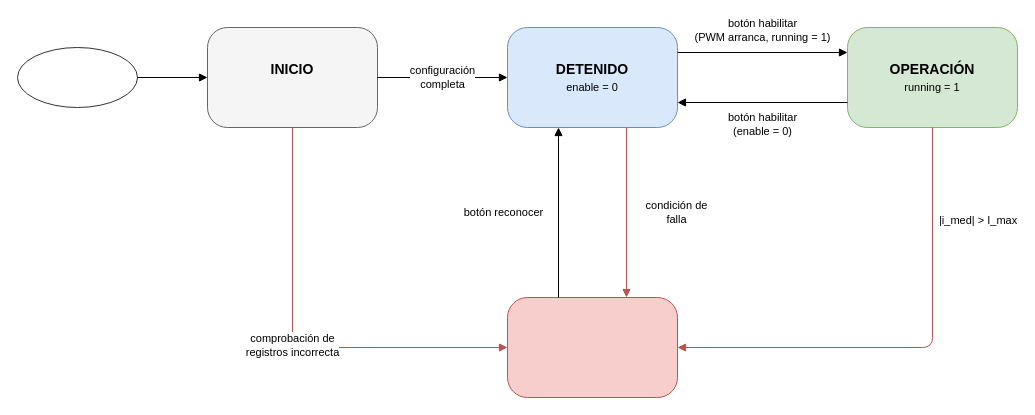
The diagram is 1035 pixels wide and 415 high, and some of its shapes have lost their labels. The shapes that lost their labels are listed below. From the top down, each one's centre as x and y in pixels, then its label:
At (x=77, y=77): "Reset".
At (x=592, y=347): "FALLA enable = 0".
